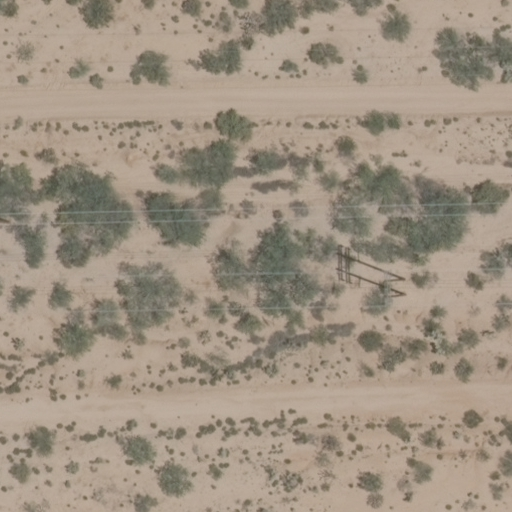TT: (331, 250, 406, 302)
